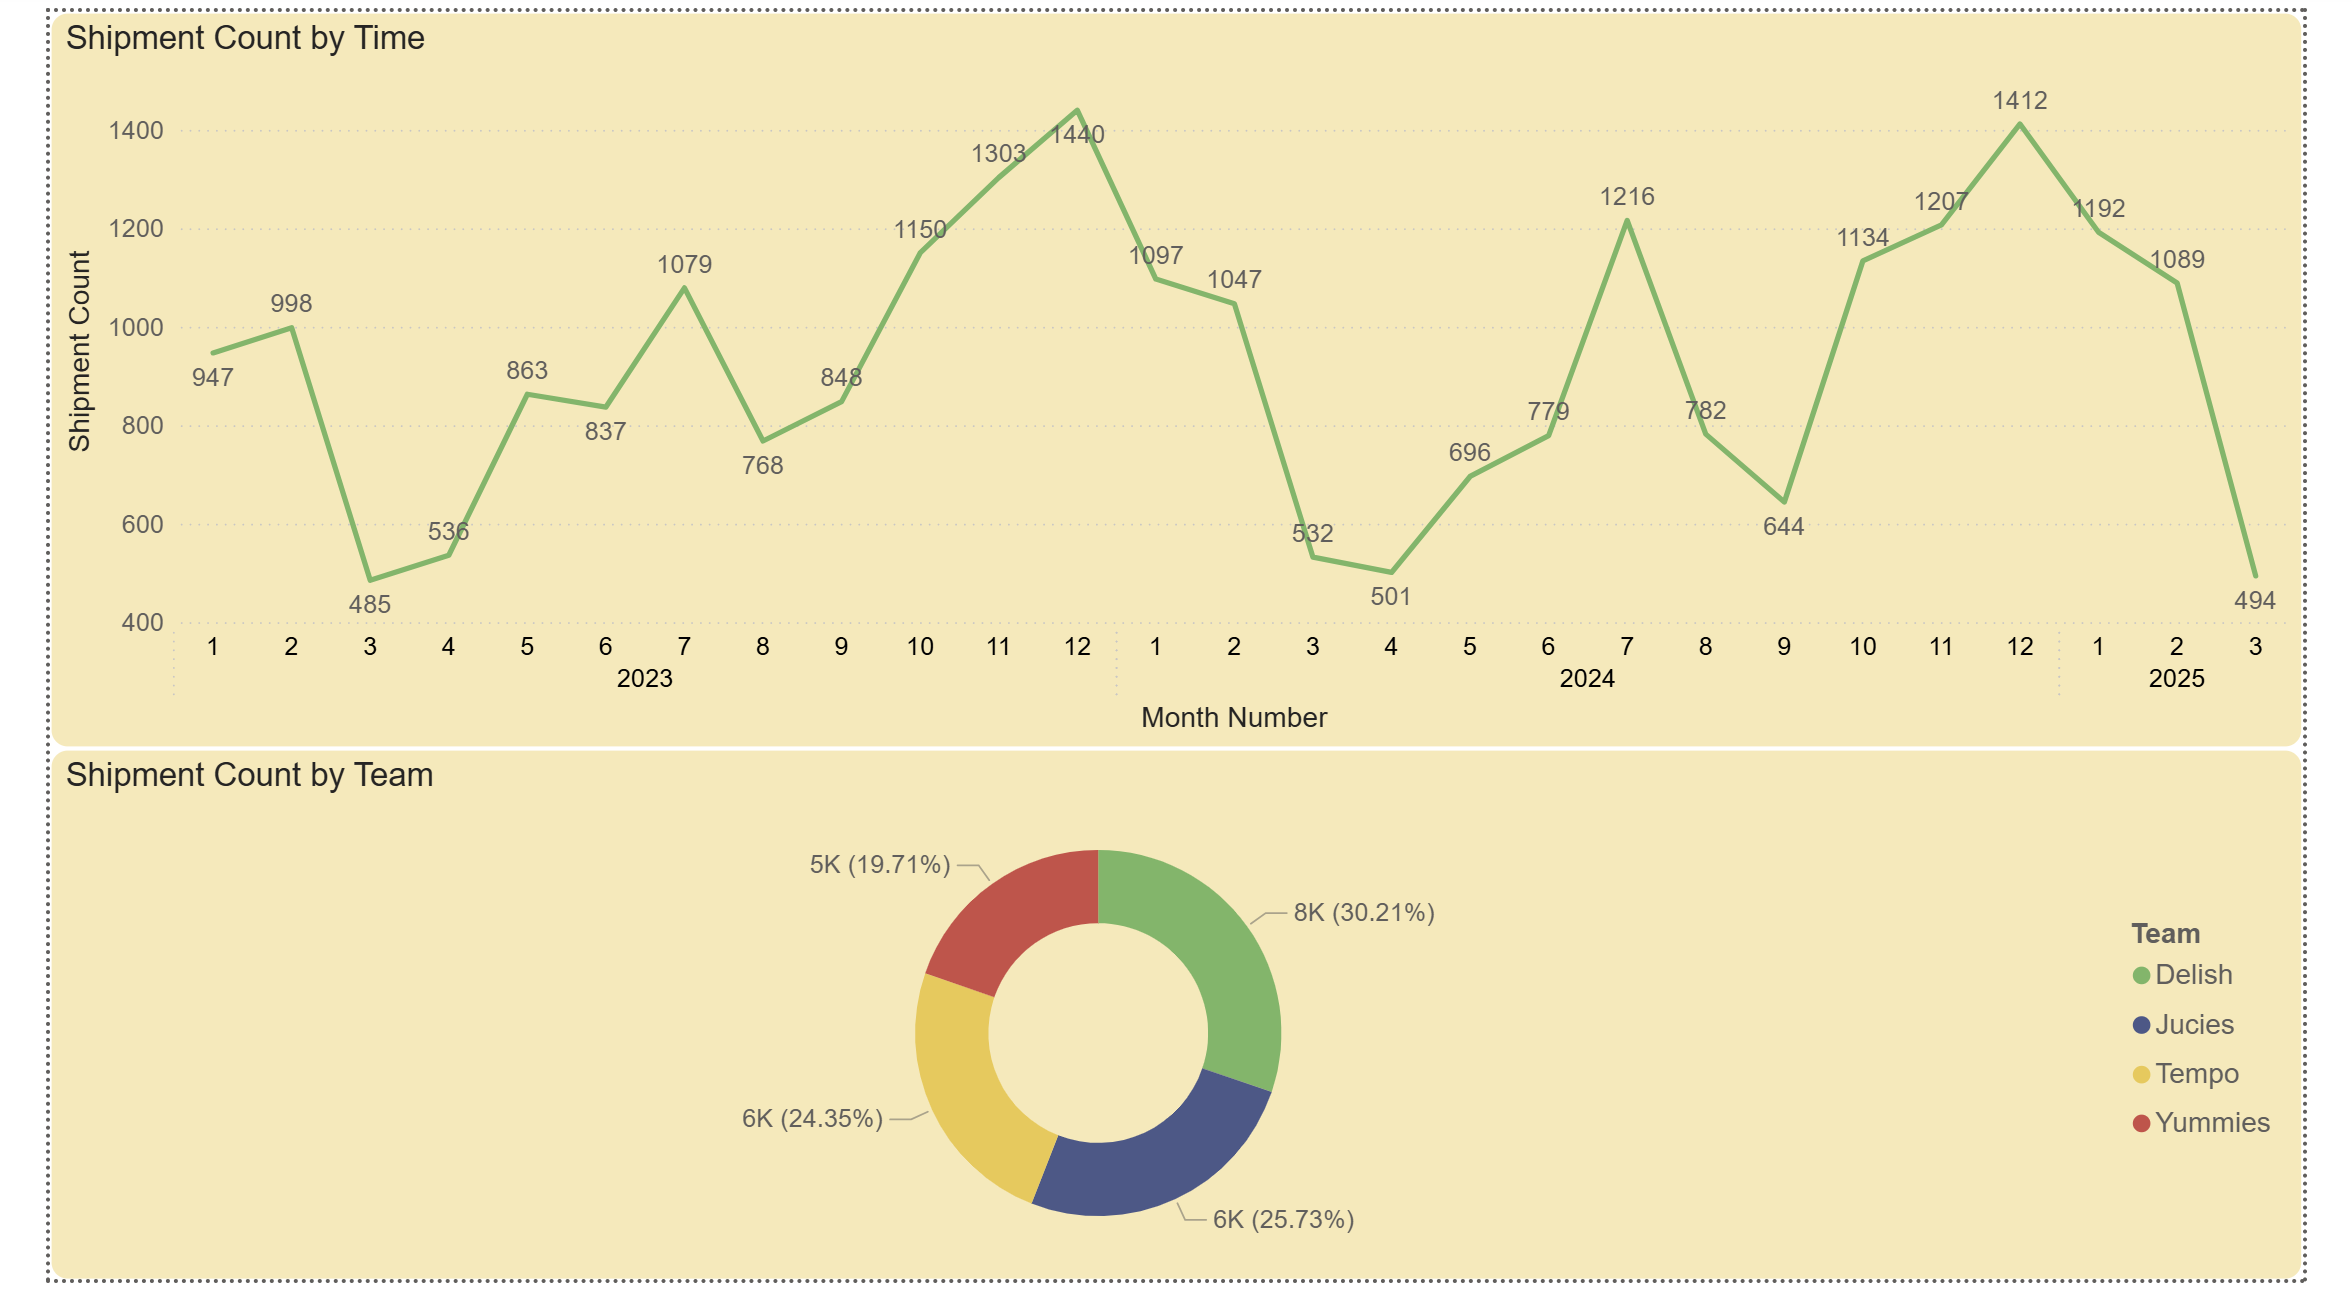

The page's visual inventory and layout, read from the dashboard file:
{"tool":"powerbi","page":{"name":"Page 3","canvas":[1280,720],"ordinal":2},"visuals":[{"type":"lineChart","title":"Shipment Count by Time","fields":{"Y":["shipments.Shipment Count"],"Category":["calendar.year","calendar.Month_num"]},"box":[0,0,1280,418.3],"z":0},{"type":"donutChart","fields":{"Category":["people.Team"],"Y":["shipments.Shipment Count"]},"box":[0,418.3,1280,301.7],"z":1000}]}

Visuals, with their boxes in screenshot pixels (x1, y1, x2, y2), scaled from the page's 1280x720 canvas onto the 2352x1298 screenshot:
"Shipment Count by Time" lineChart: [0,0,2351,754]
donutChart - people.Team x shipments.Shipment Count: [0,754,2351,1297]
